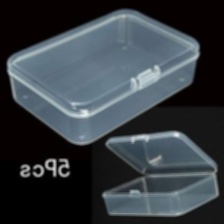plastic_box: (1, 2, 205, 150), (96, 124, 224, 221)
